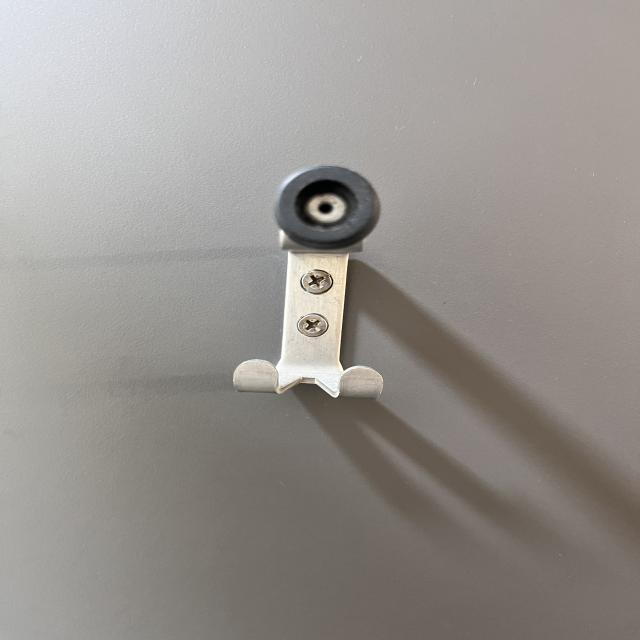phillips: (300, 268, 334, 294), (296, 313, 330, 337)
